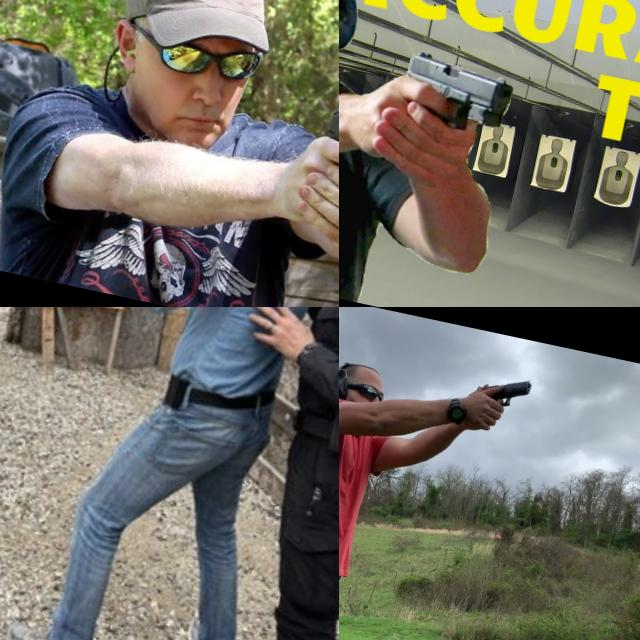handgun: (393, 48, 521, 150), (470, 369, 534, 422), (312, 103, 339, 199), (5, 307, 89, 337)
